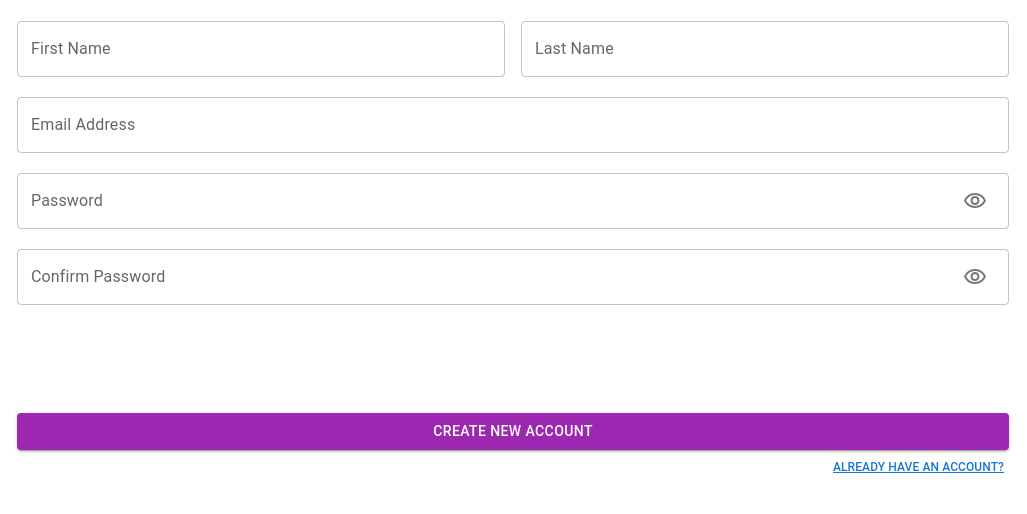
Test: Filling out the sign up form › Is invalid without matching passwords
In the field labelled "First Name": (261, 49) [17, 21, 505, 77], type "Bob"
In the field labelled "Last Name": (765, 49) [521, 21, 1009, 77], type "Smith"
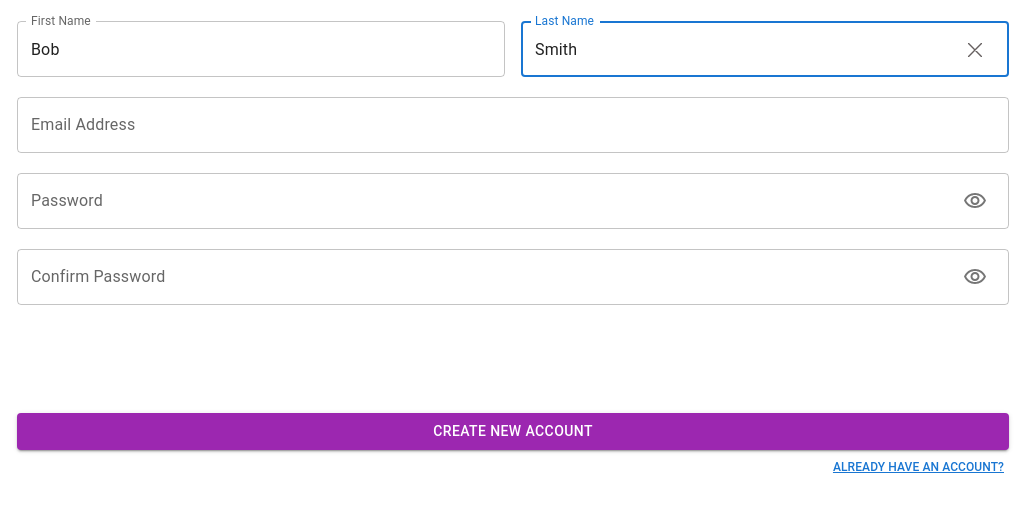
In the field labelled "Email Address": (513, 125) [17, 97, 1009, 153], type "bob@gmail.com"
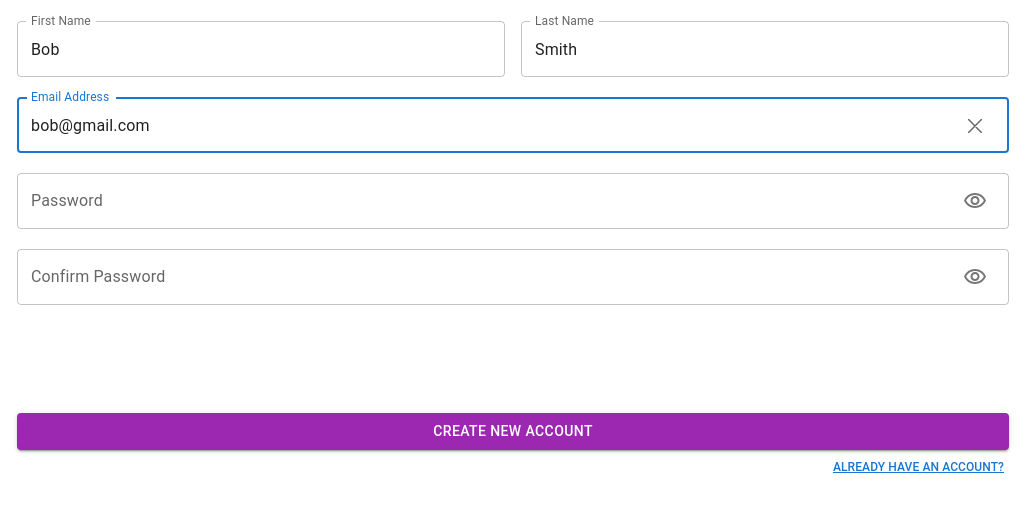
In the password field labelled "Password": (486, 201) [17, 173, 955, 229], type "password123"
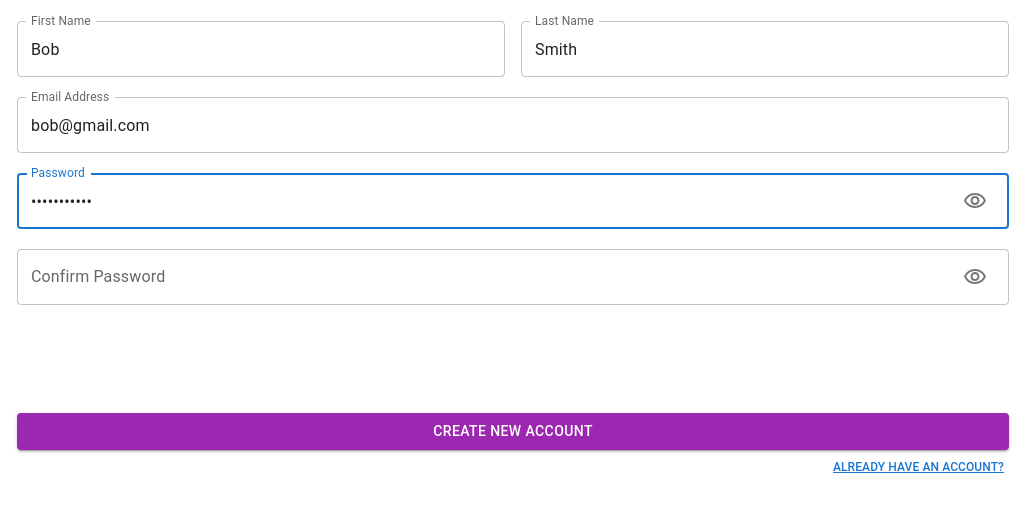
In the password field labelled "Confirm Password": (486, 277) [17, 249, 955, 305], type "password123"
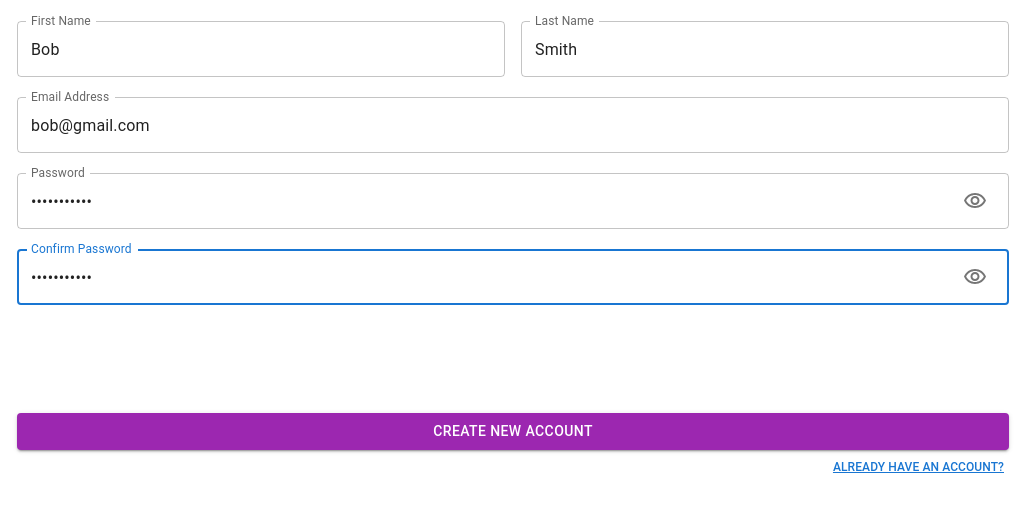
Expected: the button "Create New Account" is enabled, [17, 413, 1009, 450]
In the password field labelled "Confirm Password": (486, 277) [17, 249, 955, 305], type "sometext"
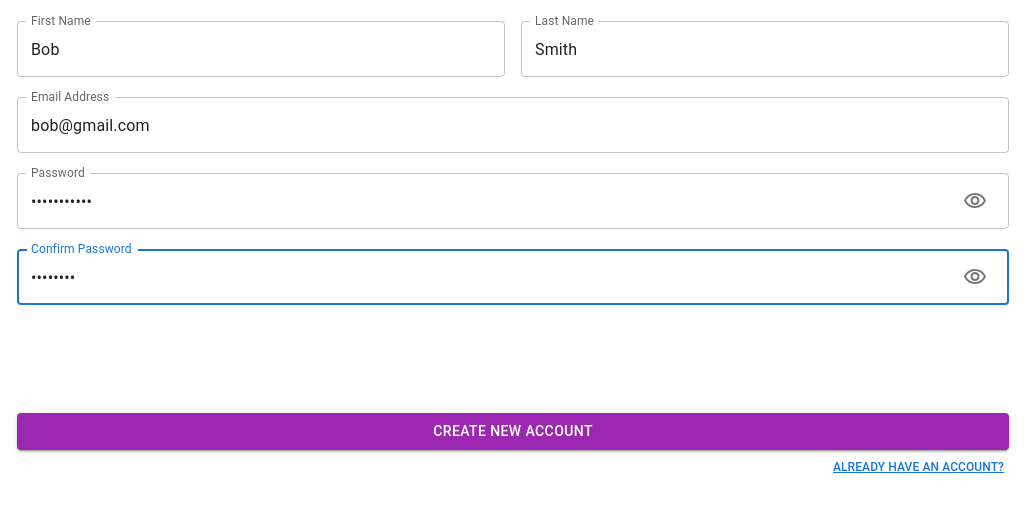
Press Tab
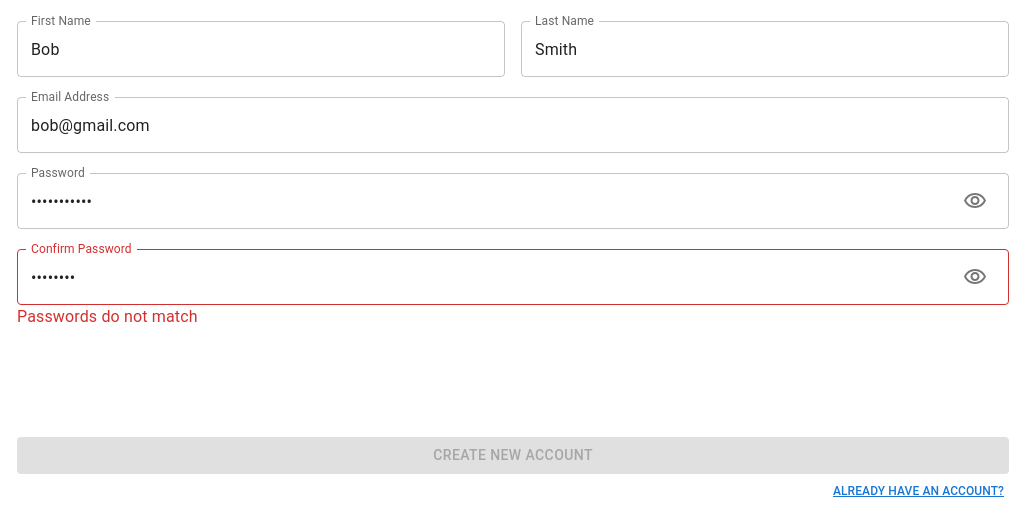
Expected: the button "Create New Account" is disabled, [17, 437, 1009, 474]
Expected: the text "Passwords do not match" is shown, [17, 307, 198, 326]
